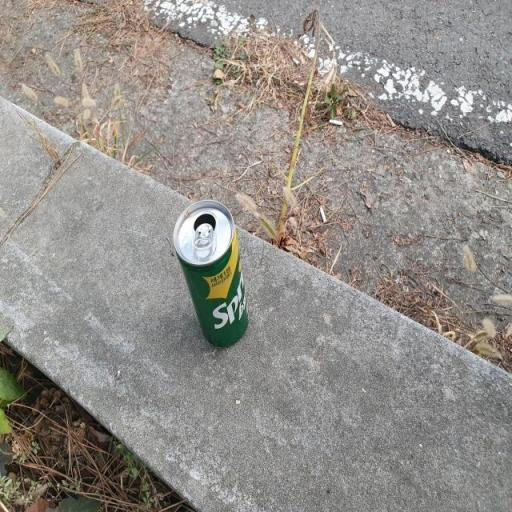metal: (159, 176, 279, 380)
